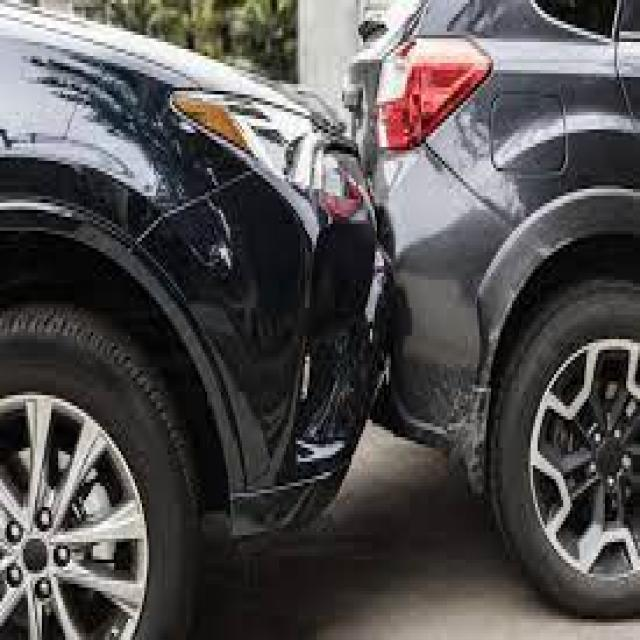accident: (0, 0, 631, 598)
